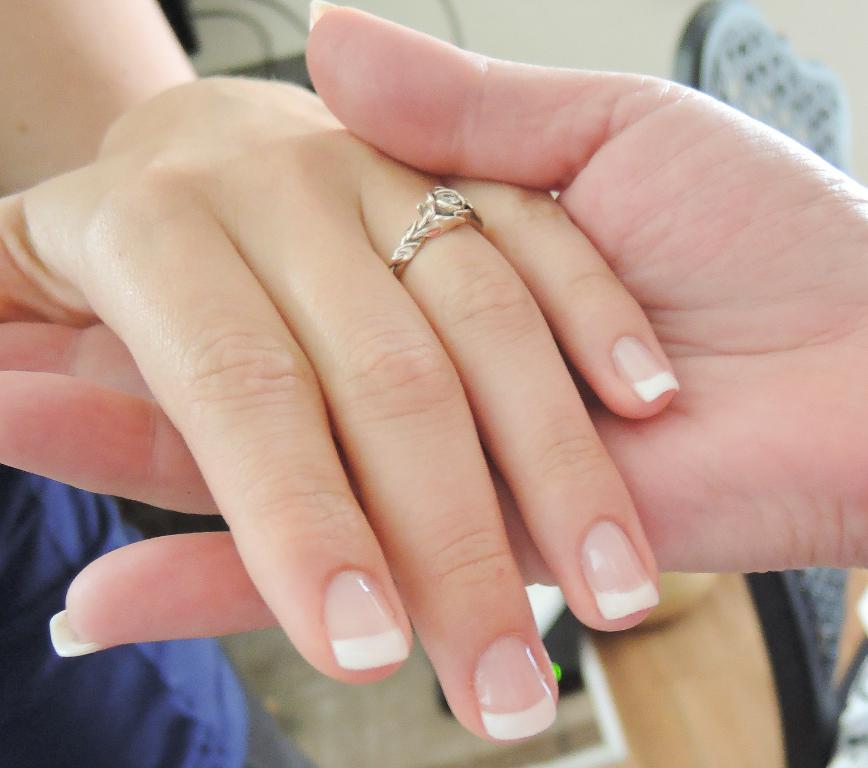Person: (51, 3, 868, 660)
